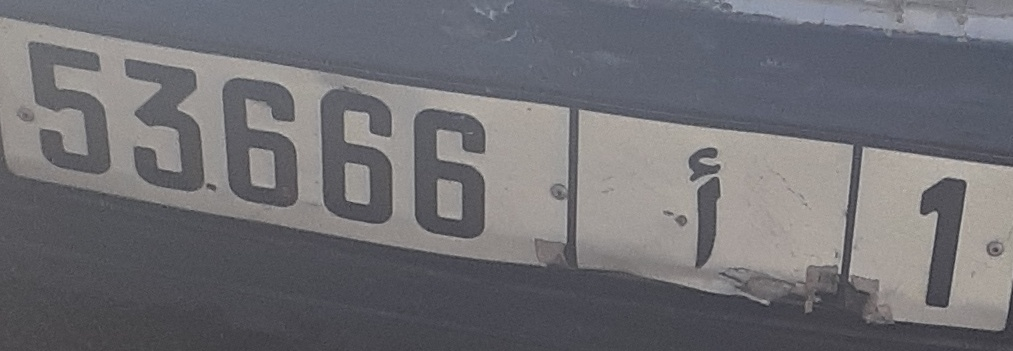1: (914, 173, 970, 313)
3: (119, 52, 210, 194)
5: (22, 36, 115, 176)
6: (315, 85, 397, 229), (217, 75, 303, 208), (406, 106, 489, 243)
a: (683, 141, 725, 276)
